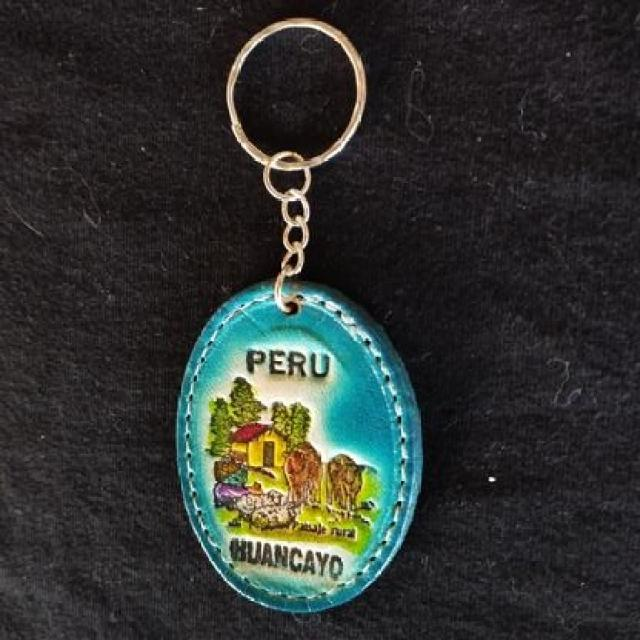Llavero: (174, 277, 423, 614)
